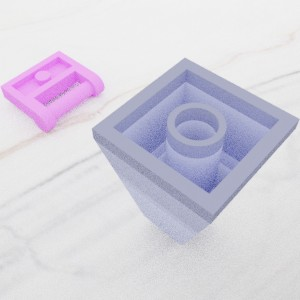lego: (91, 57, 300, 245), (0, 50, 104, 132)
